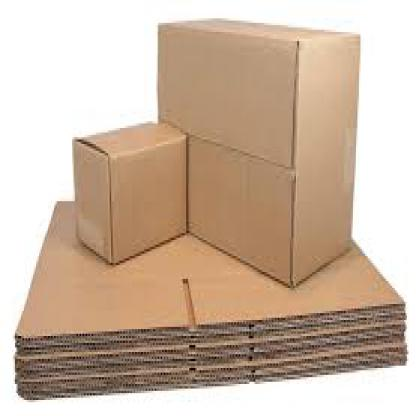CARDBOARD: (15, 201, 407, 400), (14, 199, 404, 338), (156, 16, 359, 283), (71, 119, 186, 263)
